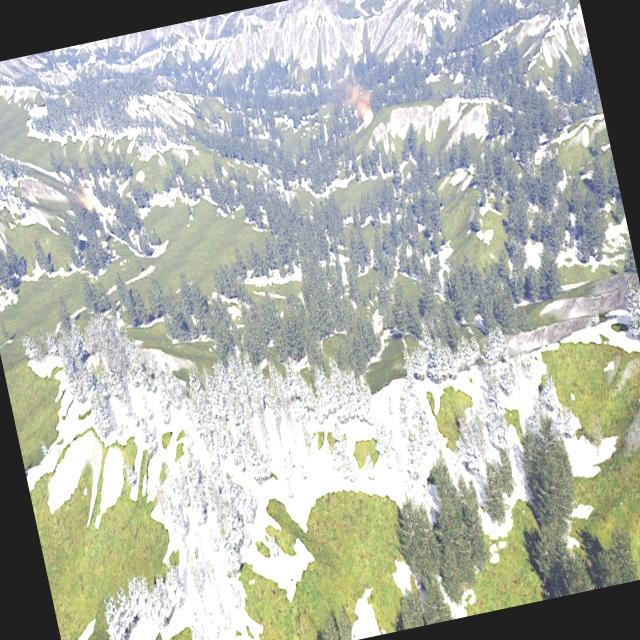fire: (360, 106, 376, 126), (84, 198, 95, 214)
smoke: (340, 70, 370, 110)
